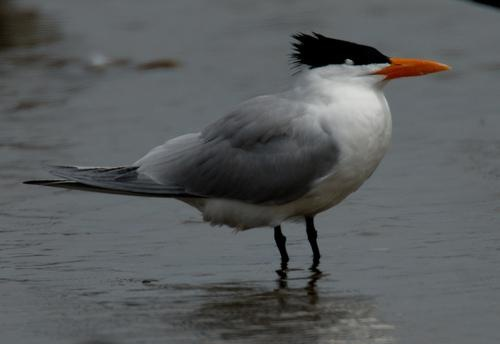bird: (27, 33, 451, 265)
